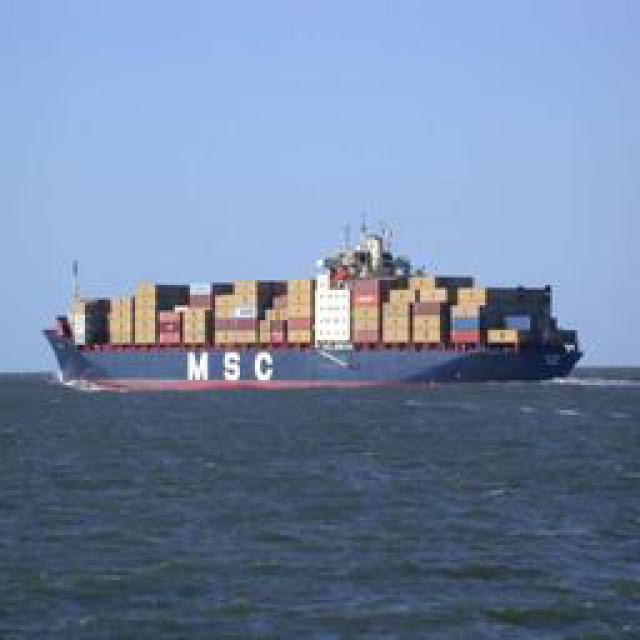Ship: (42, 228, 582, 393)
